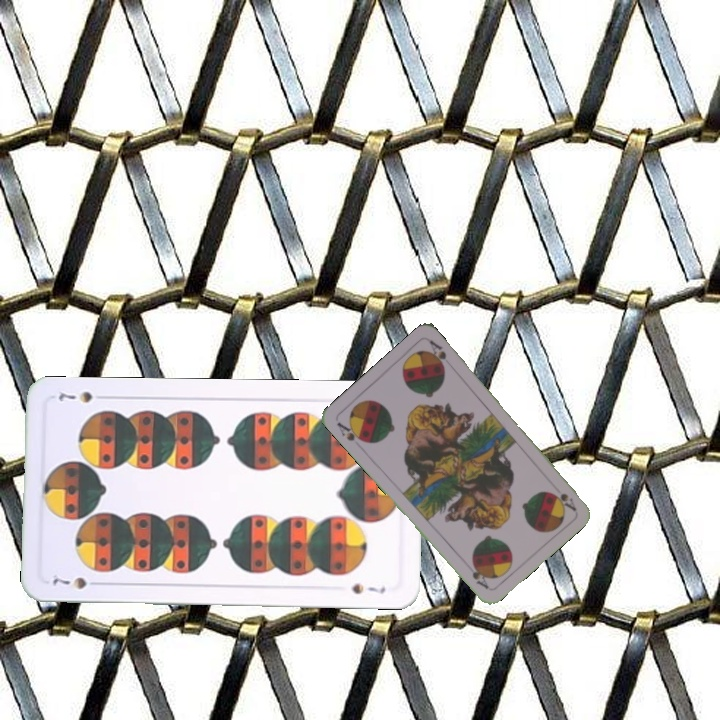S7: (45, 573, 104, 592)
SA: (333, 418, 369, 445), (556, 489, 579, 514)
